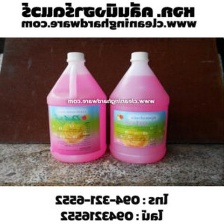cleaning_solution: (106, 51, 170, 166), (45, 50, 109, 164)
